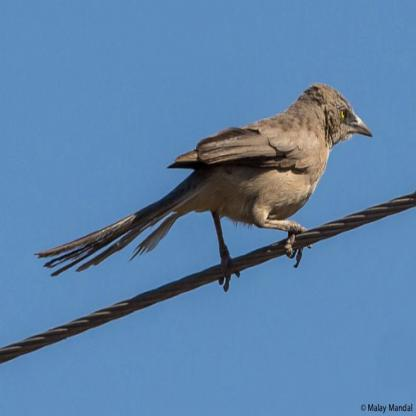Burung: (35, 82, 372, 290)
